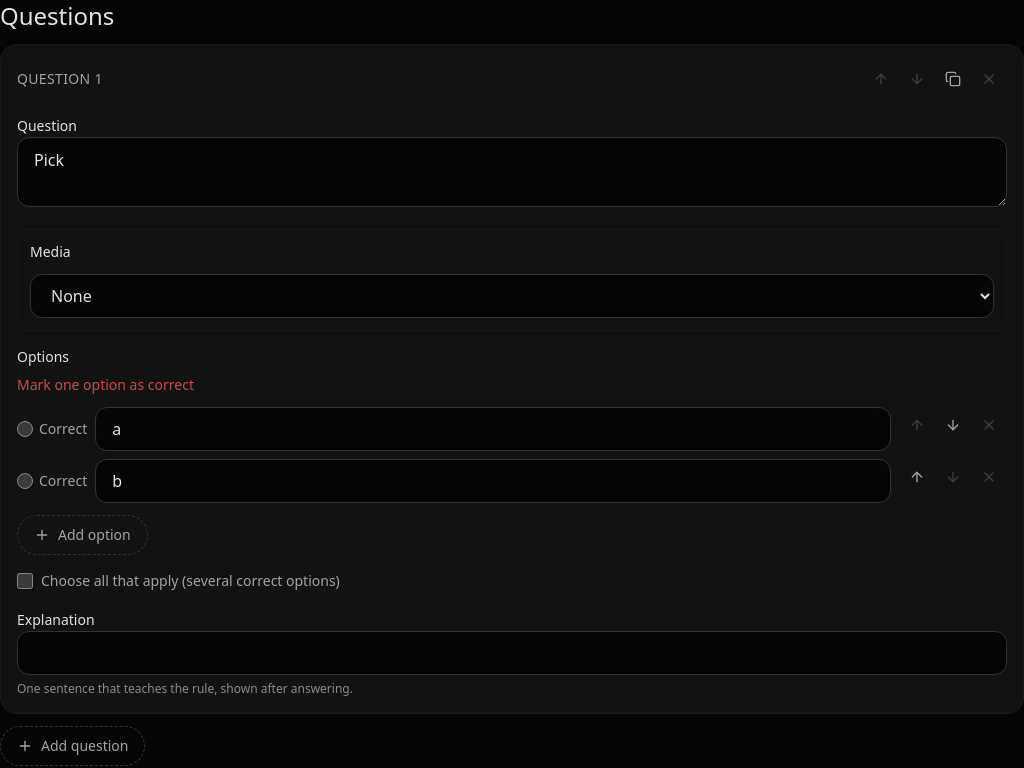
Test case: QuizEditor › shows 'Mark one option as correct' next to the question, and fixes the JSON (CA02)
The width and height of the screenshot is (1024, 768).
expect the text "Mark one option as correct" is shown: met, box [17,375,194,394]
Click the radio button with aria-label "Option 2 is correct (question 1)": (25, 481) [17,473,33,489]
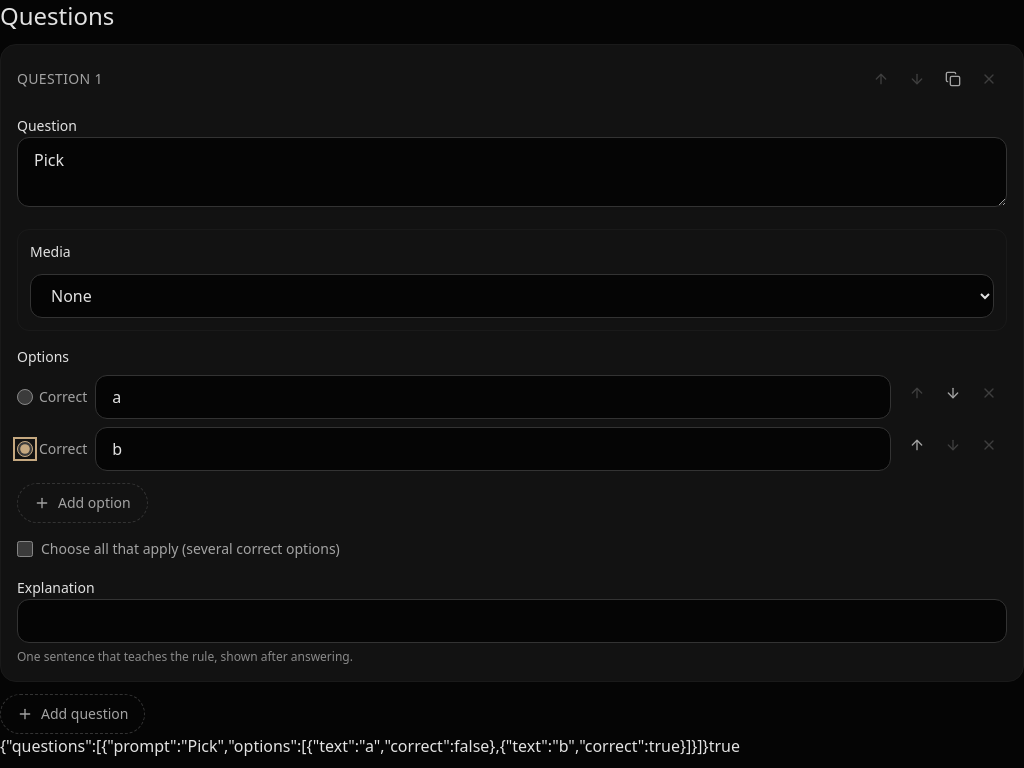
expect the text "Mark one option as correct" is gone: met
